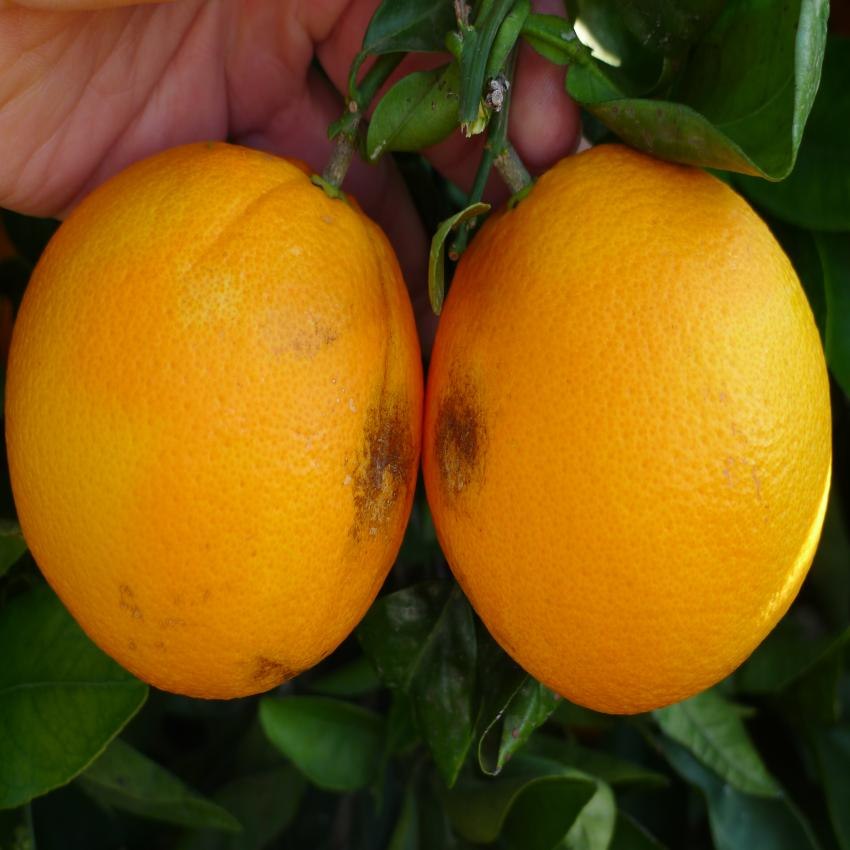Mal estado: (420, 140, 837, 735), (3, 145, 429, 713)
